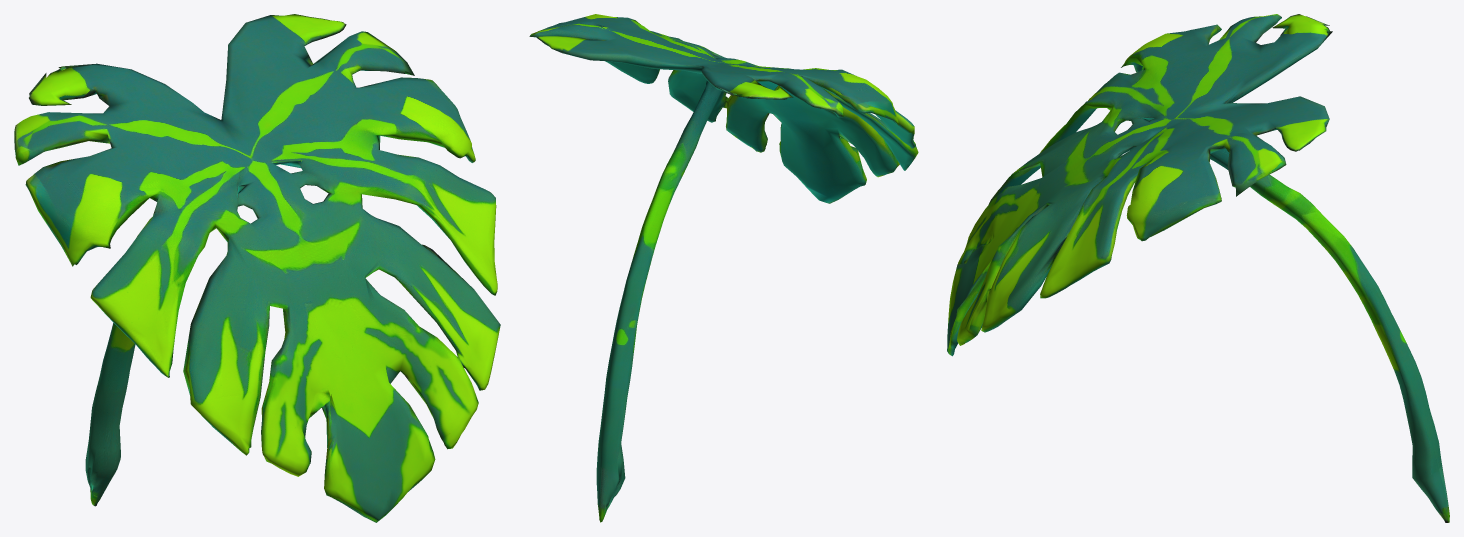
File: mon_green_yellow_v1.glb
3 renders of one model, left to right at view 1: azimuth 30°, elevation 25°; view 2: azimuth 150°, elevation 25°; view 3: azimuth 270°, elevation 25°, orthographic. The views are drawn at different scales.
Visible parts, largest first — view 1: world; view 2: world; view 3: world.
Boxes of the visible parts, x1,y1,x2,y2 form: world: (14, 14, 500, 522); world: (529, 14, 918, 522); world: (947, 14, 1449, 522).
Size of the model in its own units: 1.68 by 1.98 by 2.
1 material, 1 textured.
